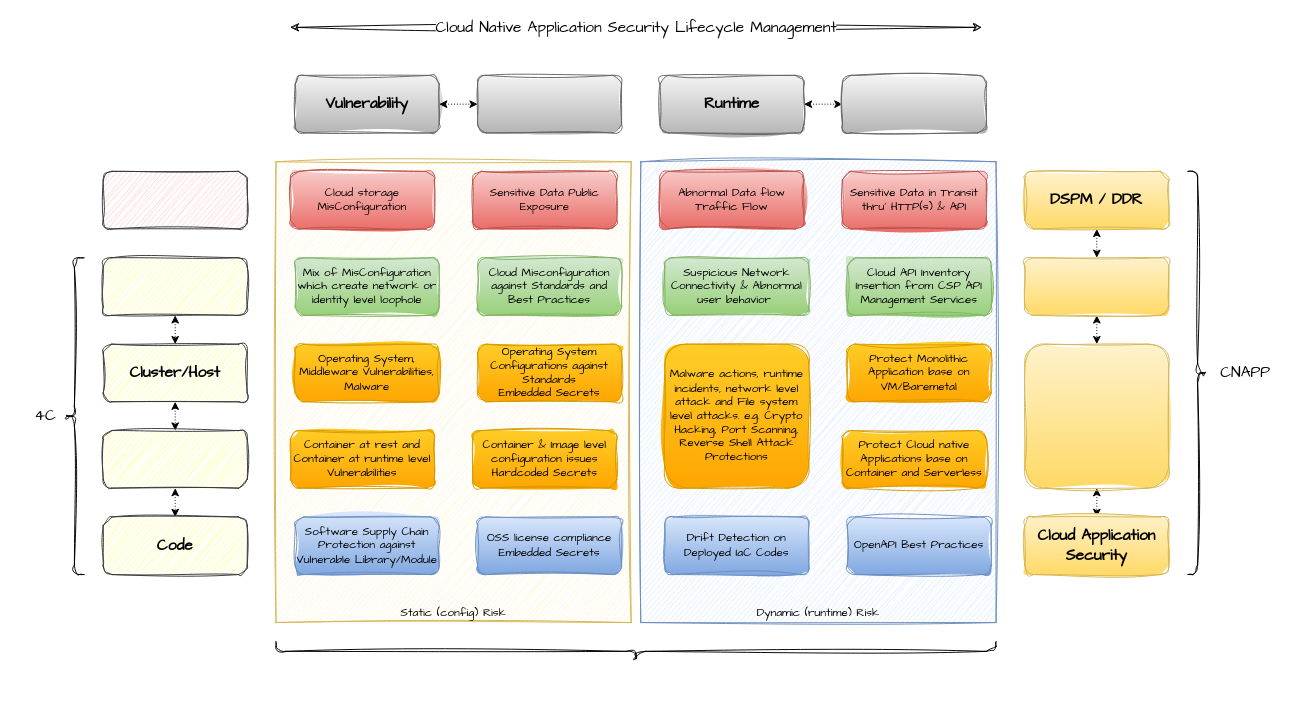
This 1290x716 diagram has some shape labels left out. The centre of each missing label's shape, as x and y in pixels:
"Cloud" belongs at point 174,286.
"Compliance" belongs at point 549,103.
"Container" belongs at point 174,459.
"CSPM / CDR" belongs at point 1096,286.
"CWPP / CDR" belongs at point 1096,415.
"Data" belongs at point 174,199.
"Security Capabilities" belongs at point 635,651.
"Web App & APi Security" belongs at point 913,103.
